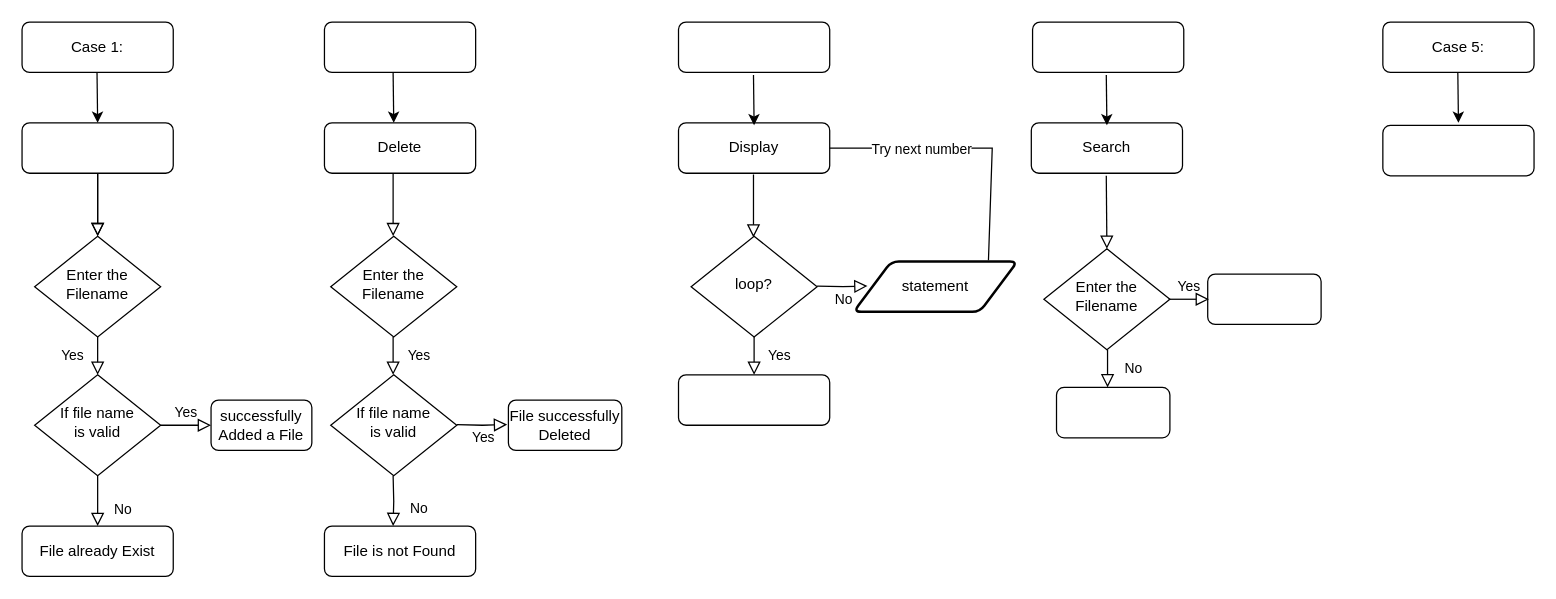
The diagram is 1556 pixels wide and 599 high, and some of its shapes have lost their labels. The shapes that lost their labels are listed below. From the top down, each one's centre as x and y in pixels, then its label:
At pixel 399 46: "Case 2:".
At pixel 753 46: "Case 3:".
At pixel 1107 46: "Case 4:".
At pixel 97 147: "Add".
At pixel 1458 150: "Exit".
At pixel 1263 298: "File is Existed".
At pixel 753 399: "End".
At pixel 1112 412: "File is not Existed".
